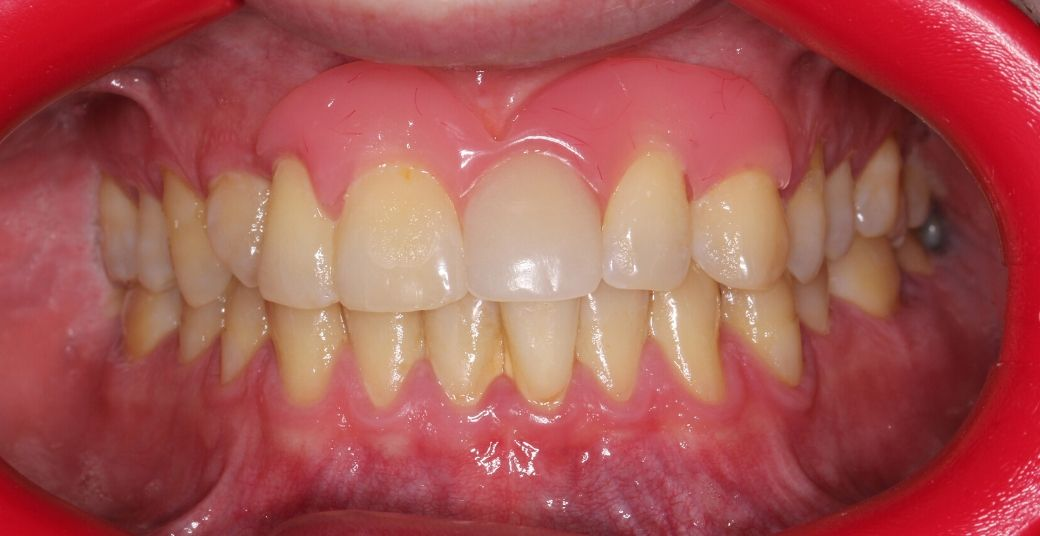LL1BC_healthy: (719, 292, 807, 394)
LL1M_healthy: (831, 231, 907, 325)
LLCI_healthy: (501, 297, 578, 413)
LLC_healthy: (652, 281, 737, 414)
LLLI_healthy: (580, 289, 651, 404)
LR1BC_healthy: (212, 296, 270, 392)
LR1M_healthy: (116, 293, 176, 359)
LR2BC_healthy: (172, 300, 221, 373)
LRCI_healthy: (424, 301, 504, 415)
LRC_healthy: (266, 308, 341, 409)
LRLI_healthy: (344, 314, 424, 410)
UL1BC_healthy: (778, 146, 826, 284)
UL1M_healthy: (852, 129, 903, 241)
UL2BC_healthy: (819, 152, 857, 261)
ULCI_healthy: (461, 144, 603, 304)
ULC_healthy: (691, 163, 792, 291)
ULLI_healthy: (601, 143, 692, 294)
UR1BC_healthy: (161, 164, 231, 308)
UR1M_healthy: (93, 174, 142, 289)
UR2BC_healthy: (135, 190, 174, 294)
URCI_healthy: (334, 159, 467, 312)
URC_healthy: (202, 174, 270, 292)
URLI_healthy: (262, 152, 339, 310)
